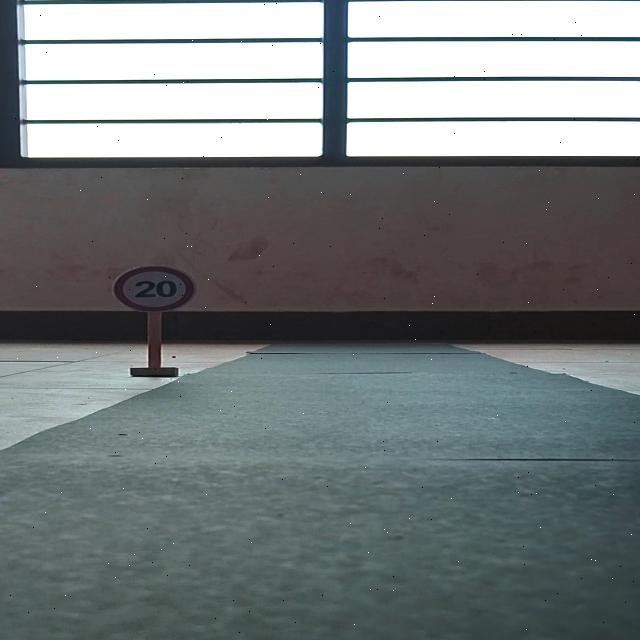Speed20: (108, 260, 202, 316)
